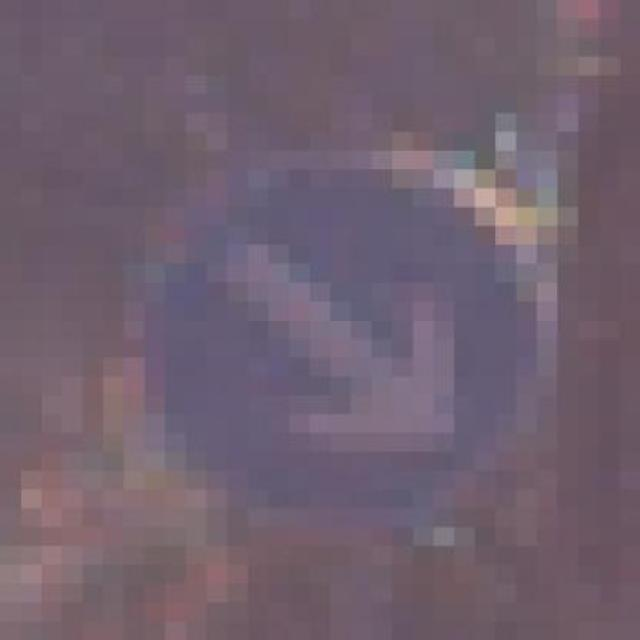Keep-Right: (103, 132, 579, 546)
